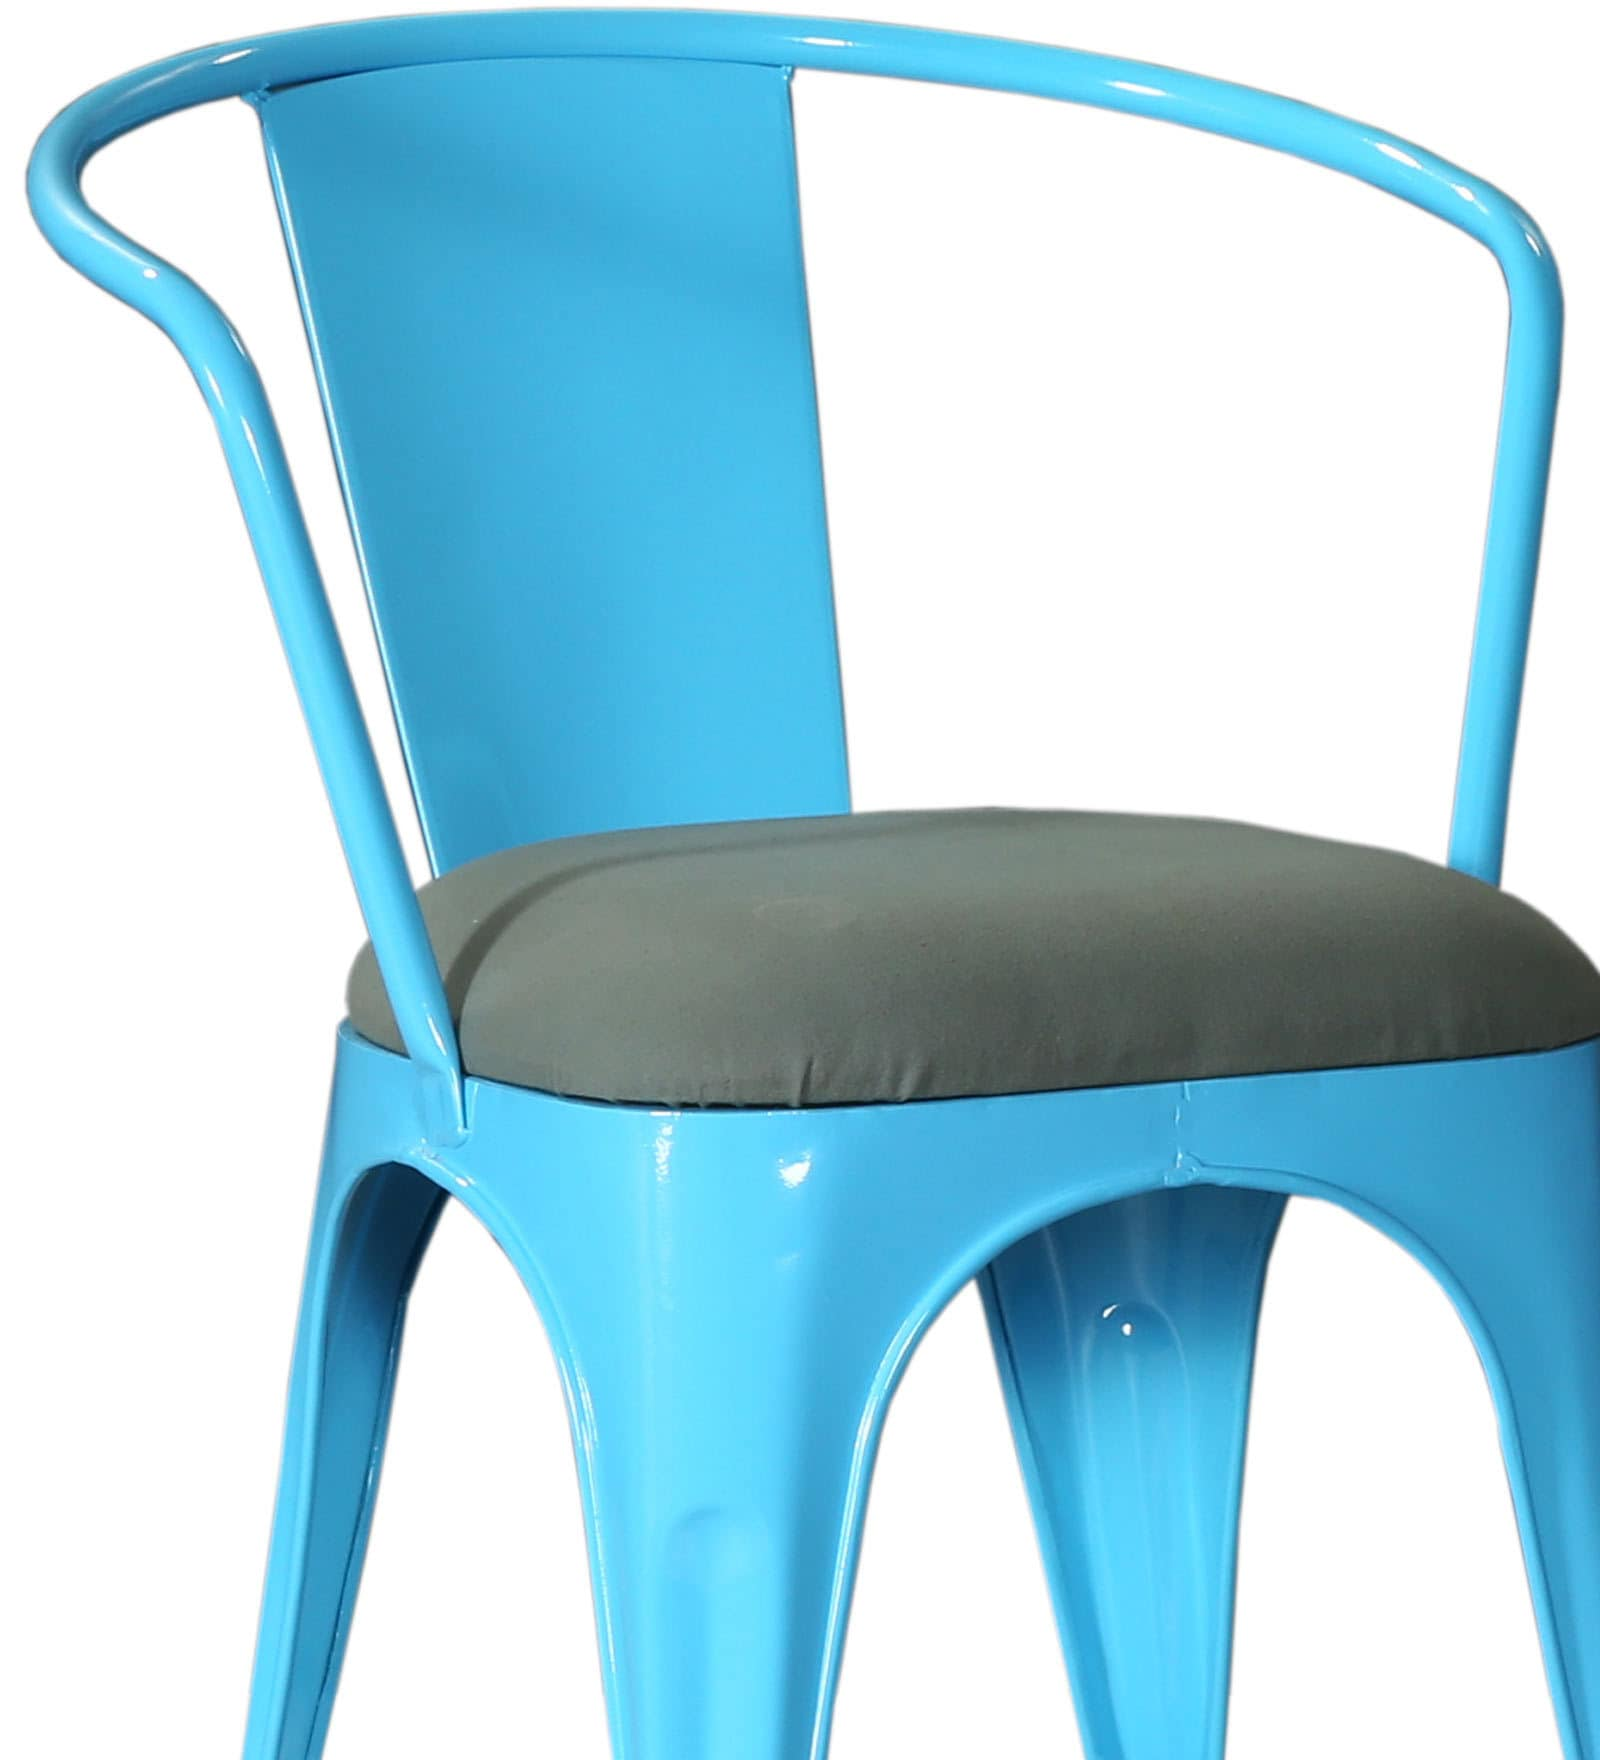Danlou Metal Chair with Cushion in Blue Colour by Bohemiana: (25, 17, 1600, 1693)
